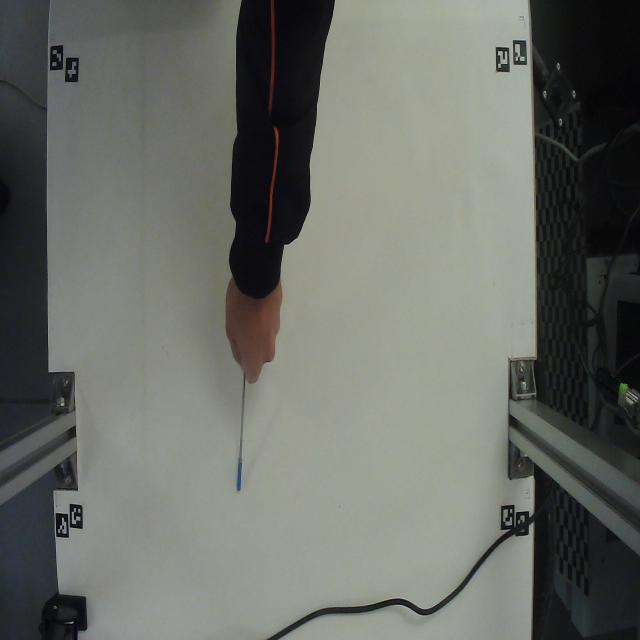Pres: (210, 371, 266, 497)
